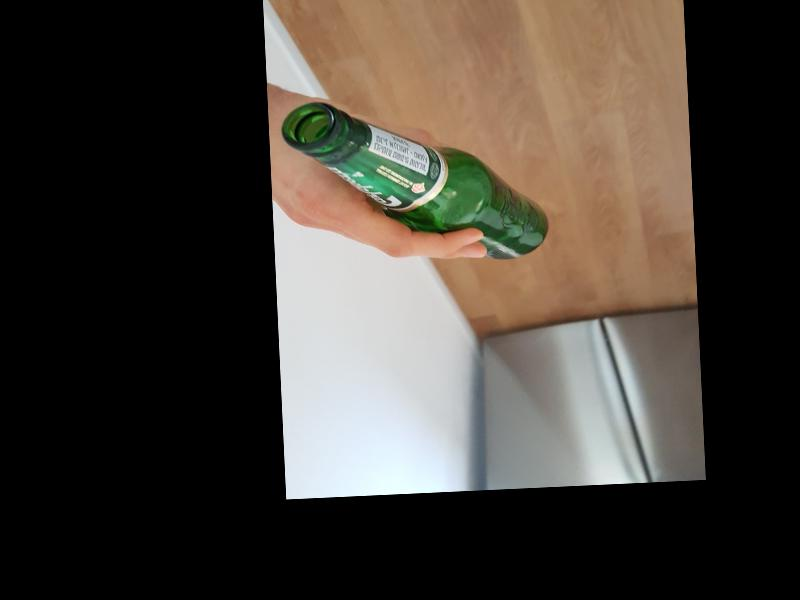Beer: (279, 90, 549, 268)
